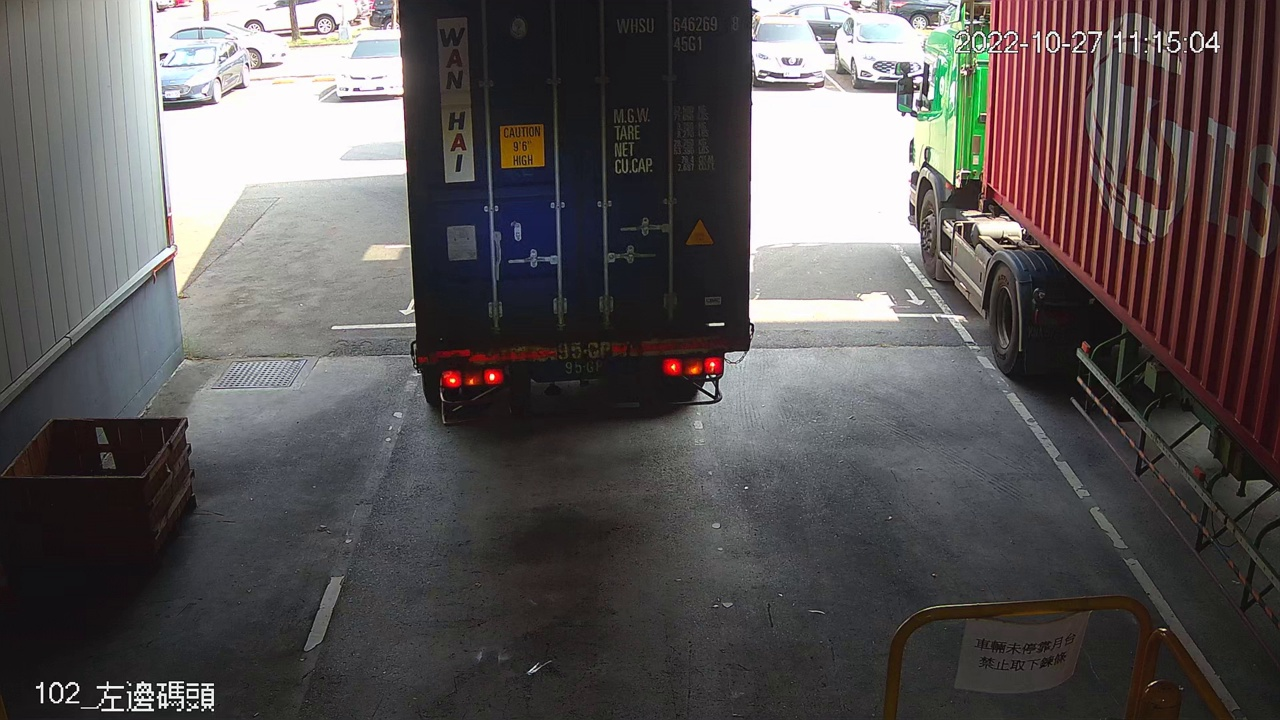container: (609, 8, 746, 56)
